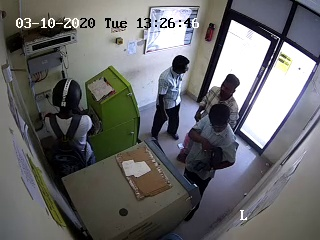helmet: (52, 77, 83, 114)
